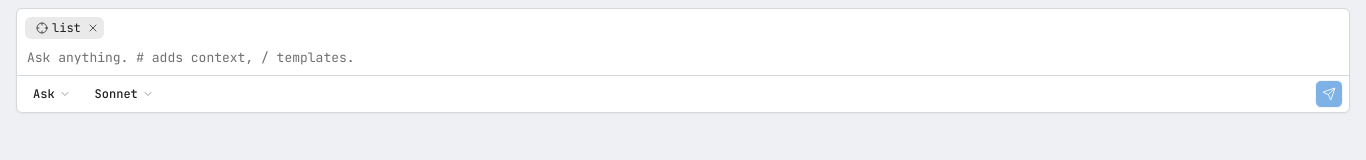
Test case: Composer › shows the focus chip and lets the user remove it
Expected: the text "list" is shown, [52,20,81,36]
Click the button named "Remove list" at (93, 28), box [85,20,101,36]
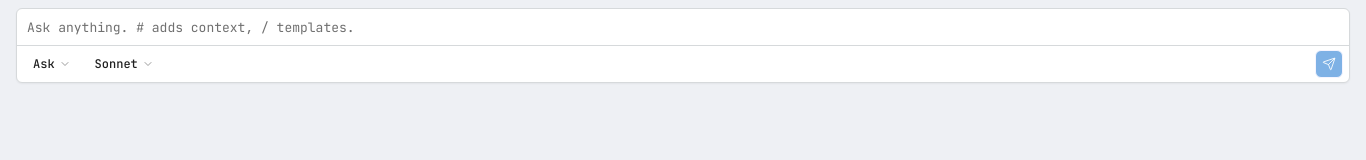
Result: the text "list" is gone
